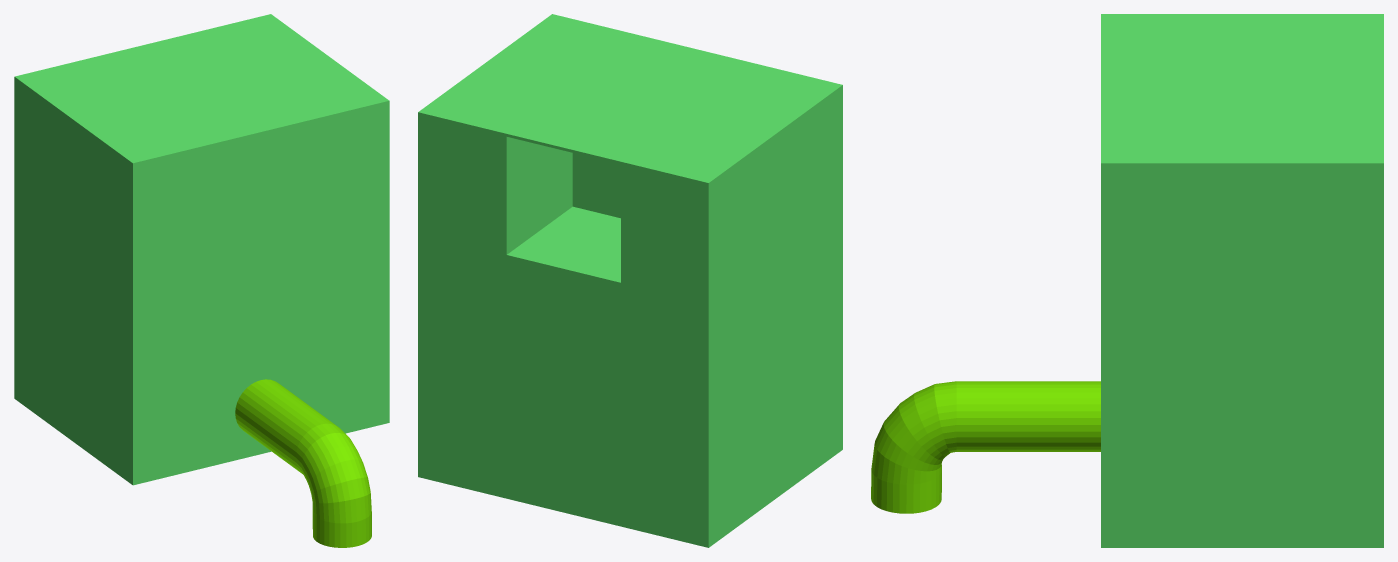
The model's file is spring vacuum.fbx.
3 renders of one model, left to right at view 1: azimuth 30°, elevation 25°; view 2: azimuth 150°, elevation 25°; view 3: azimuth 270°, elevation 25°, orthographic. The views are drawn at different scales.
Visible parts, largest first — view 1: Cube, Cylinder; view 2: Cube; view 3: Cube, Cylinder.
Part boxes in pixels (x1,y1,x2,y2): Cube: [14, 14, 389, 485]; Cylinder: [235, 379, 371, 547]; Cube: [418, 14, 842, 547]; Cube: [1101, 14, 1383, 547]; Cylinder: [871, 381, 1100, 513].
Size of the model in its own units: 250 by 320 by 363.
